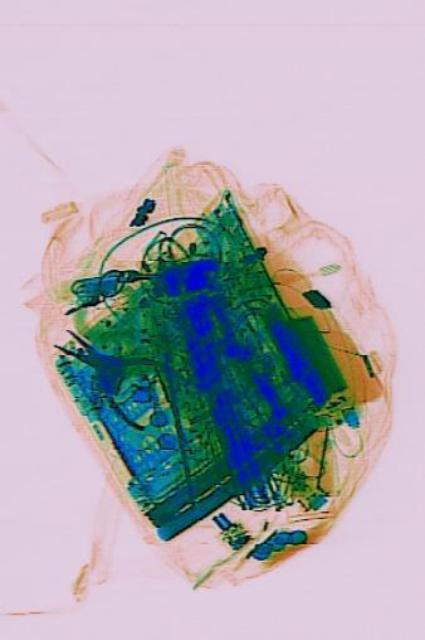Pliers: (42, 296, 187, 446)
